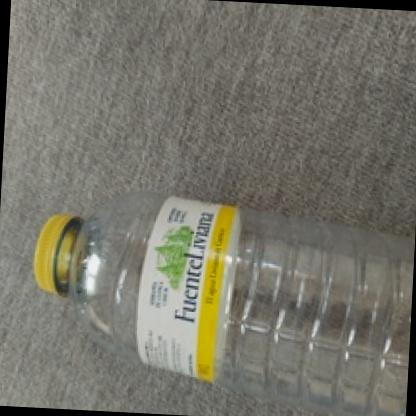plastic_bottles: (32, 184, 416, 413)
